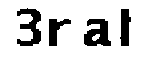3: (12, 7, 43, 50)
I: (119, 6, 134, 50)
a: (82, 16, 116, 50)
r: (46, 15, 75, 48)
